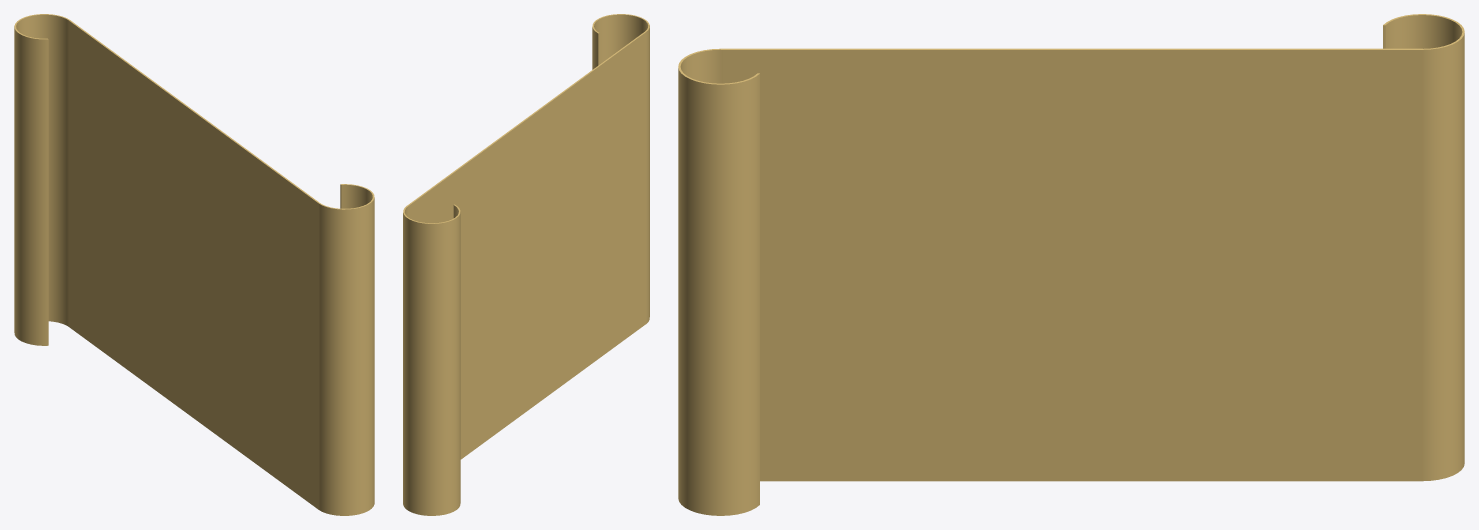
File: BetterDecisionPaper.fbx
3 renders of one model, left to right at view 1: azimuth 30°, elevation 25°; view 2: azimuth 150°, elevation 25°; view 3: azimuth 270°, elevation 25°, orthographic. The views are drawn at different scales.
Parts seen in each view (by area): view 1: Cube, Cylinder, Cylinder.001; view 2: Cube, Cylinder.001, Cylinder; view 3: Cube, Cylinder, Cylinder.001.
Part boxes in pixels (x1,y1,x2,y2): Cube: (69, 21, 319, 508); Cylinder: (318, 184, 374, 515); Cylinder.001: (14, 14, 70, 345); Cube: (408, 32, 645, 459); Cylinder.001: (403, 204, 460, 515); Cylinder: (592, 14, 649, 323); Cube: (721, 48, 1422, 481); Cylinder: (678, 48, 759, 515); Cylinder.001: (1383, 14, 1464, 481).
Bounding box in the file's own units: 70.26 × 200 × 331.
